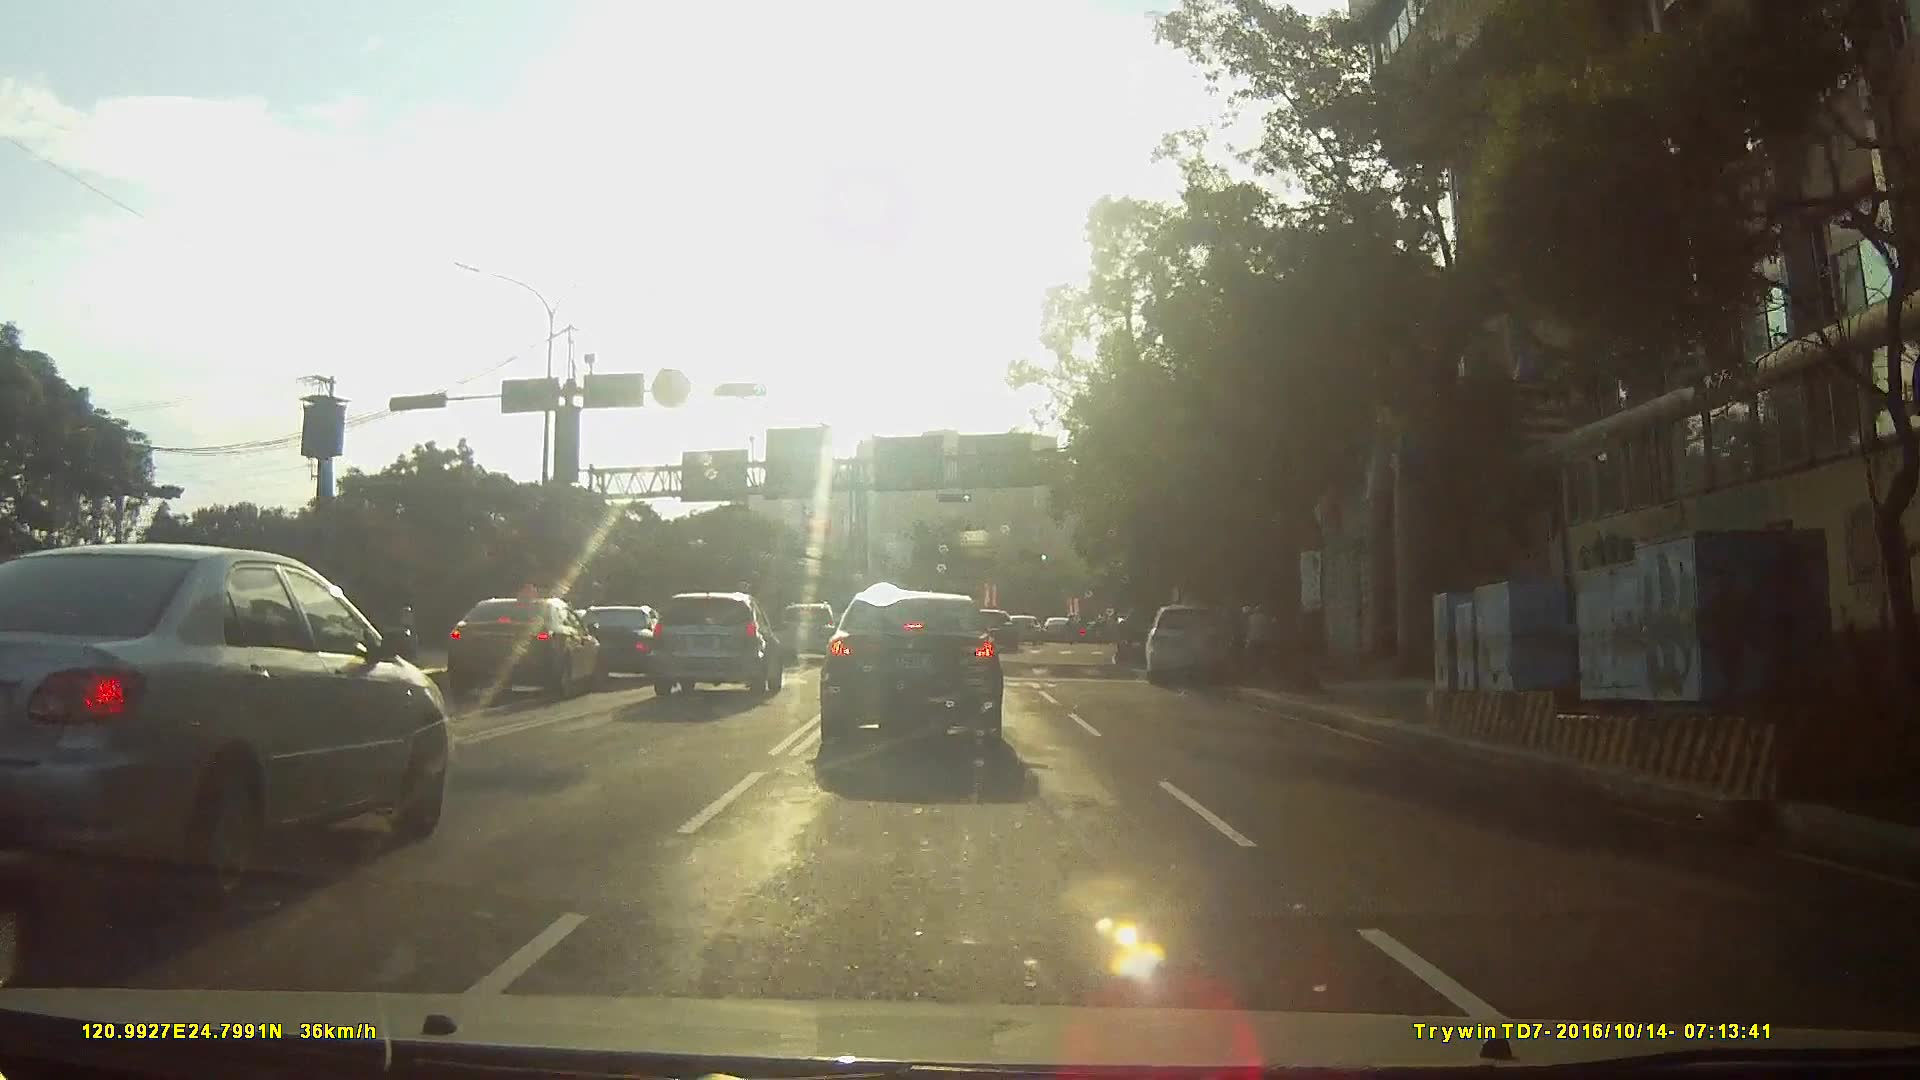pedestrian: (1242, 606, 1275, 673)
vehicle: (1, 541, 472, 907), (811, 599, 1020, 774), (417, 597, 590, 703), (645, 590, 783, 702), (1144, 604, 1249, 690), (552, 604, 662, 685), (776, 603, 845, 668), (965, 610, 1022, 657), (1008, 618, 1047, 650), (1043, 616, 1083, 644)
